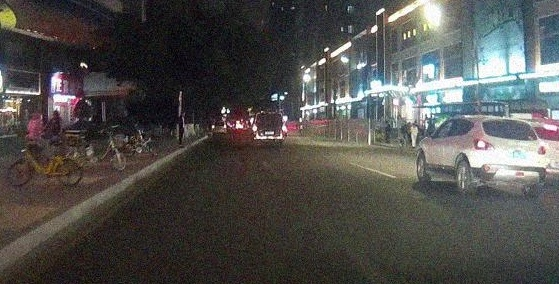L_light: (473, 138, 495, 151), (252, 125, 257, 131)
R_light: (536, 145, 546, 155), (282, 124, 285, 131)
T_light: (503, 118, 516, 122), (267, 114, 274, 115)
night-left: (472, 116, 547, 198)
night-no: (252, 112, 286, 148)
